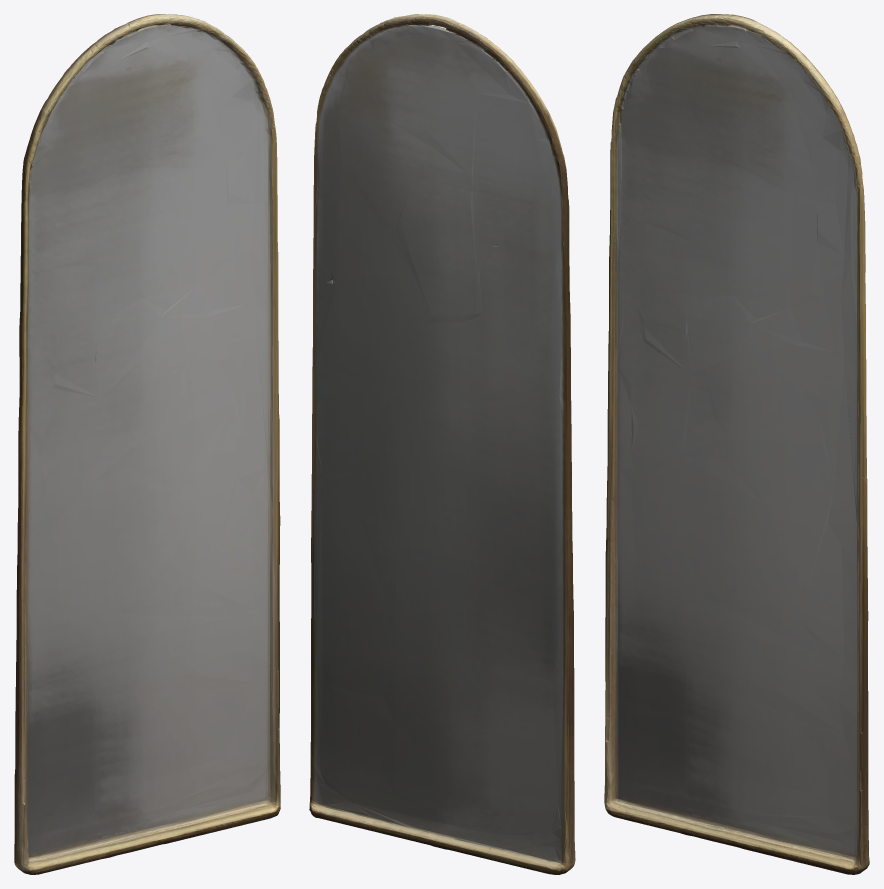
File: mirror.glb
The picture shows the model from 3 angles, left to right: view 1: azimuth 30°, elevation 25°; view 2: azimuth 150°, elevation 25°; view 3: azimuth 330°, elevation 25°; orthographic projection.
Visible parts, largest first — view 1: world; view 2: world; view 3: world.
Part boxes in pixels (x1=…): world: x1=14, y1=14, x2=280, y2=874; world: x1=309, y1=14, x2=575, y2=874; world: x1=604, y1=14, x2=869, y2=874.
Size of the model in its own units: 0.3333 by 1 by 0.0336.
Materials: 1 (1 with a texture image).
